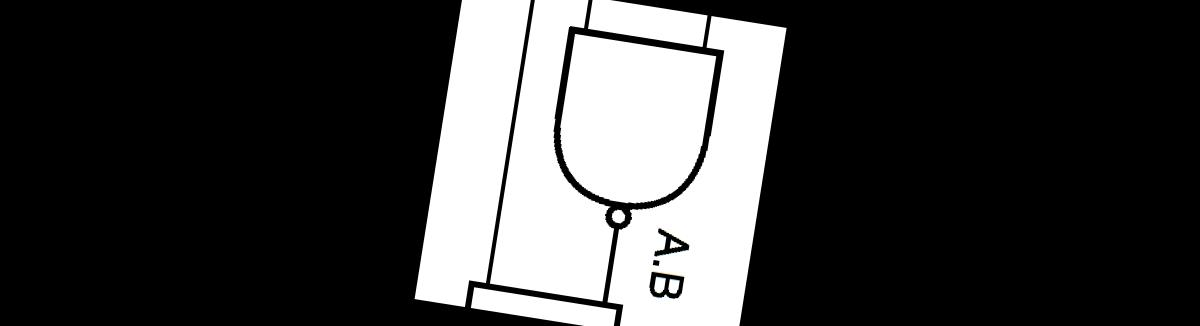nand: (528, 12, 735, 249)
